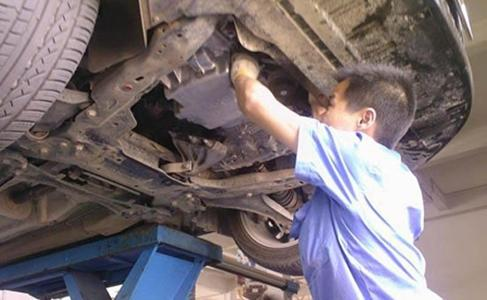person: (231, 51, 445, 300)
